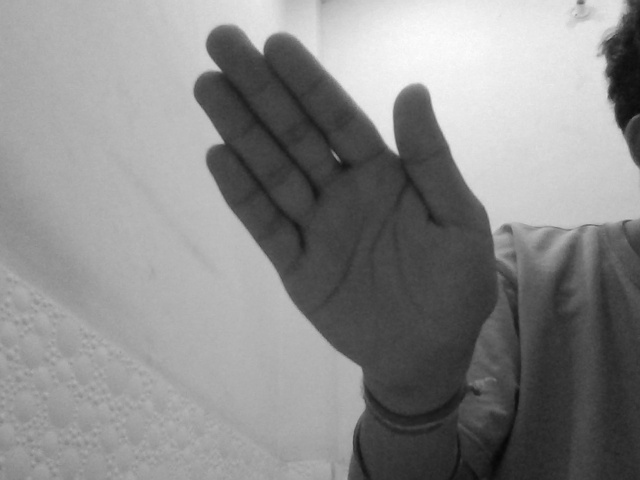Hello: (190, 19, 502, 395)
